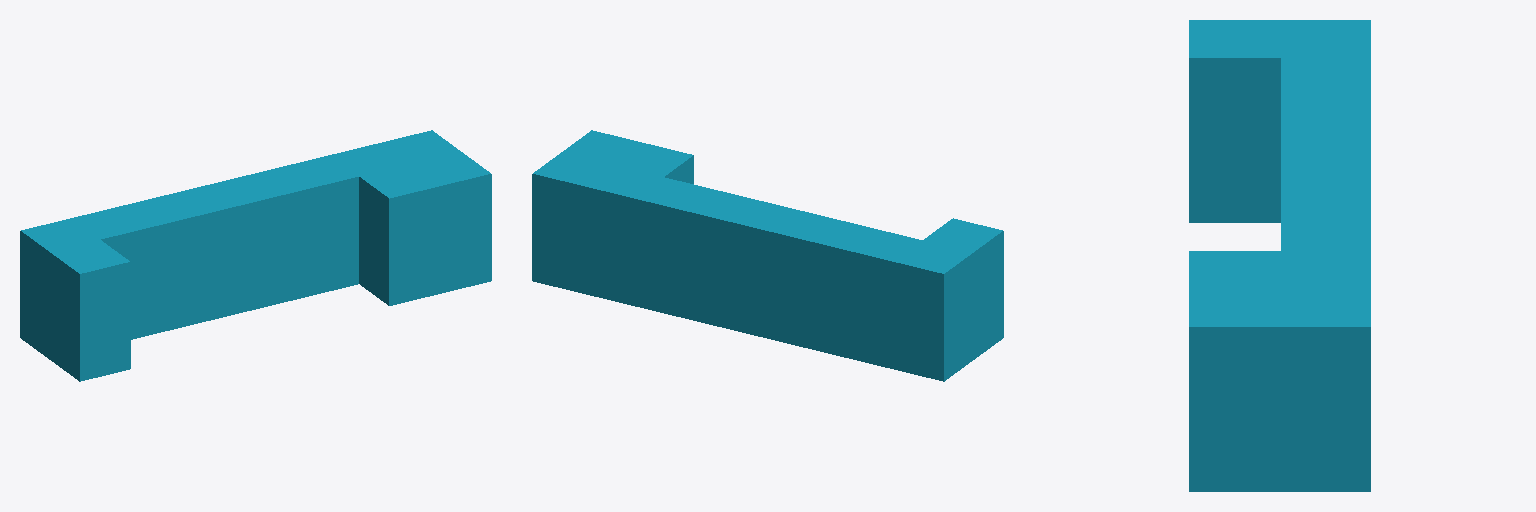
robot.urdf — obj_9:
<robot name="obj_9" version="1.0">
  <link name="obj_9">
    <collision name="interlocking-puzzle-5-collision.001">
      <origin rpy="0.00000 0.00000 0.00000" xyz="-0.68177 0.57967 0.31299"/>
      <geometry>
        <mesh filename="../meshes/obj/interlocking-puzzle-5-collision.001.obj" scale="2.08327 2.09740 2.09740"/>
      </geometry>
    </collision>
    <collision name="interlocking-puzzle-5-collision.002">
      <origin rpy="0.00000 0.00000 0.00000" xyz="-0.19576 0.57254 0.31837"/>
      <geometry>
        <mesh filename="../meshes/obj/interlocking-puzzle-5-collision.002.obj" scale="2.09740 2.09740 2.09740"/>
      </geometry>
    </collision>
    <collision name="interlocking-puzzle-5-collision.003">
      <origin rpy="0.00000 0.00000 0.00000" xyz="-0.49545 0.61222 0.32030"/>
      <geometry>
        <mesh filename="../meshes/obj/interlocking-puzzle-5-collision.003.obj" scale="2.09740 2.09740 2.09740"/>
      </geometry>
    </collision>
    <inertial>
      <inertia ixx="0.00056" ixy="-0.00005" ixz="-0.00000" iyy="0.00507" iyz="-0.00000" izz="0.00514"/>
      <origin rpy="0.00000 0.00000 0.00000" xyz="-0.39814 0.59046 0.31837"/>
      <mass value="0.03000"/>
    </inertial>
    <visual name="interlocking-puzzle-5">
      <material name="Light Blue"/>
      <origin rpy="-3.14159 0.00000 0.00000" xyz="-0.43623 0.55294 0.31837"/>
      <geometry>
        <mesh filename="../meshes/obj/interlocking-puzzle-5.obj" scale="0.01049 0.01049 0.01049"/>
      </geometry>
    </visual>
  </link>
  <material name="Light Blue">
    <color rgba="0.15294 0.68627 0.80000 1.00000"/>
  </material>
</robot>

--- Facts derived from the render (not from the file) ---
The picture shows the robot from 3 angles, left to right: view 1: azimuth 30°, elevation 25°; view 2: azimuth 150°, elevation 25°; view 3: azimuth 270°, elevation 25°; orthographic projection.
Model obj_9 with 1 links and 0 joints (none), rooted at obj_9, posed every joint at zero.
Visible links, largest first — view 1: obj_9; view 2: obj_9; view 3: obj_9.
Boxes of the visible links, x1,y1,x2,y2 form: obj_9: (20,130,491,381); obj_9: (532,130,1003,381); obj_9: (1189,20,1370,491).
Size in the robot's own frame: 0.6294 by 0.1574 by 0.1574 metres.
1 mesh visuals loaded from 1 distinct referenced files (1 OBJ).